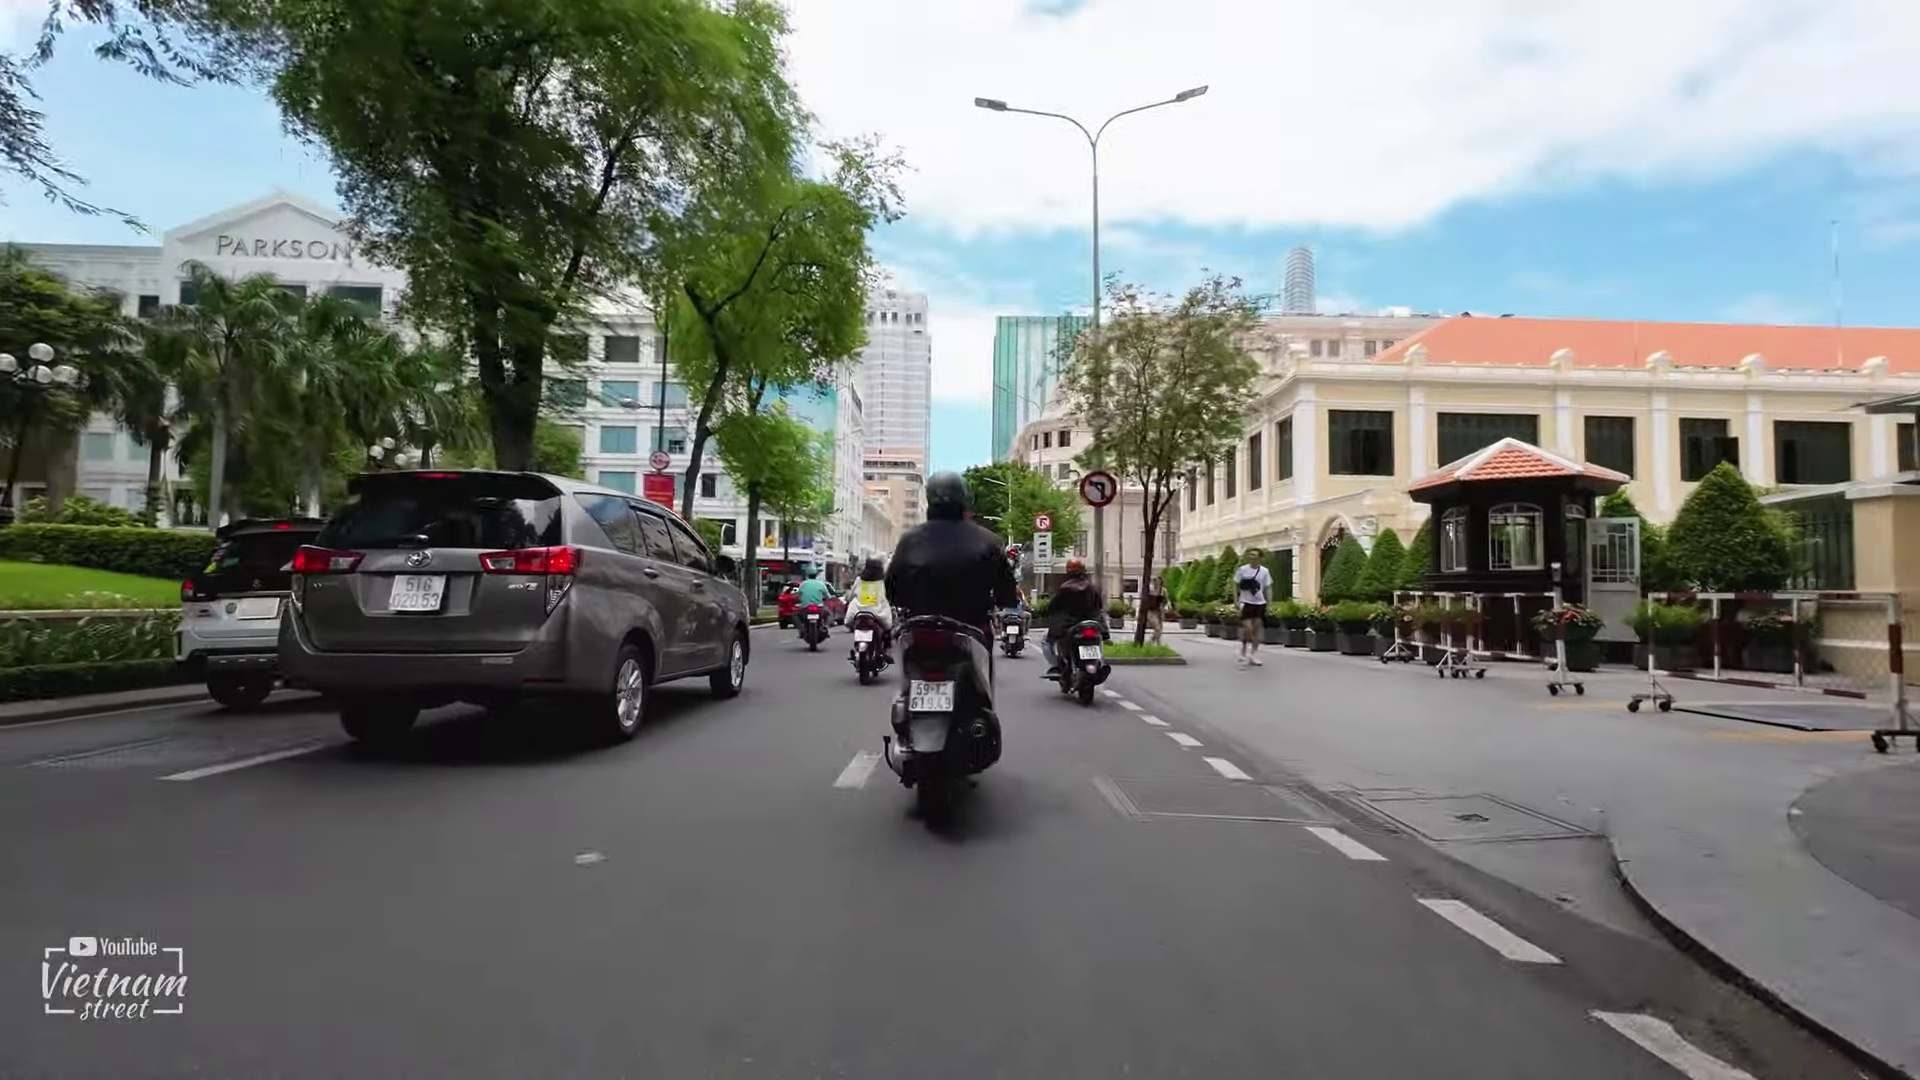cam_re_phai: (1031, 512, 1054, 531)
cam_re_trai: (1079, 468, 1118, 508)
